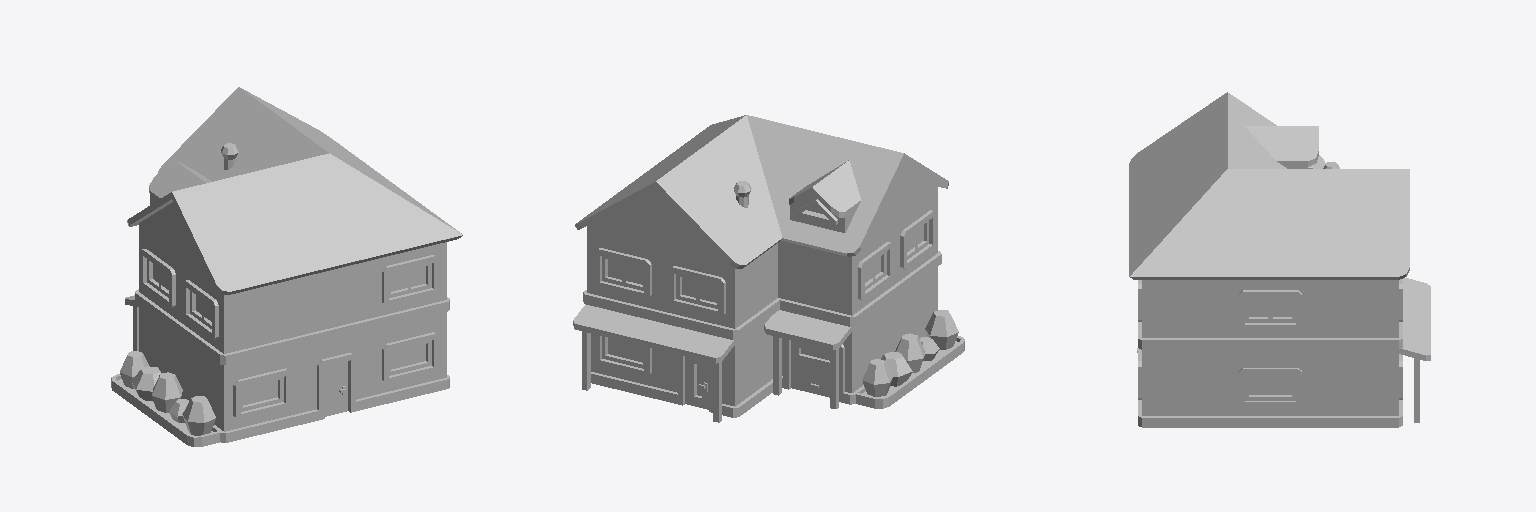
The model's file is suburban_building-type-f.obj.
The picture shows the model from 3 angles: view 1: azimuth 30°, elevation 25°; view 2: azimuth 150°, elevation 25°; view 3: azimuth 270°, elevation 25°; orthographic projection.
Visible parts, largest first — view 1: building-type-f; view 2: building-type-f; view 3: building-type-f.
Boxes of the visible parts, x1=… form: building-type-f: x1=111, y1=87, x2=462, y2=446; building-type-f: x1=573, y1=115, x2=964, y2=422; building-type-f: x1=1129, y1=92, x2=1430, y2=427.
Bounding box in the file's own units: 1.43 × 1.14 × 1.41.